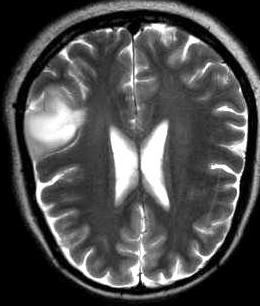Normal_Brain: (5, 1, 260, 302)
